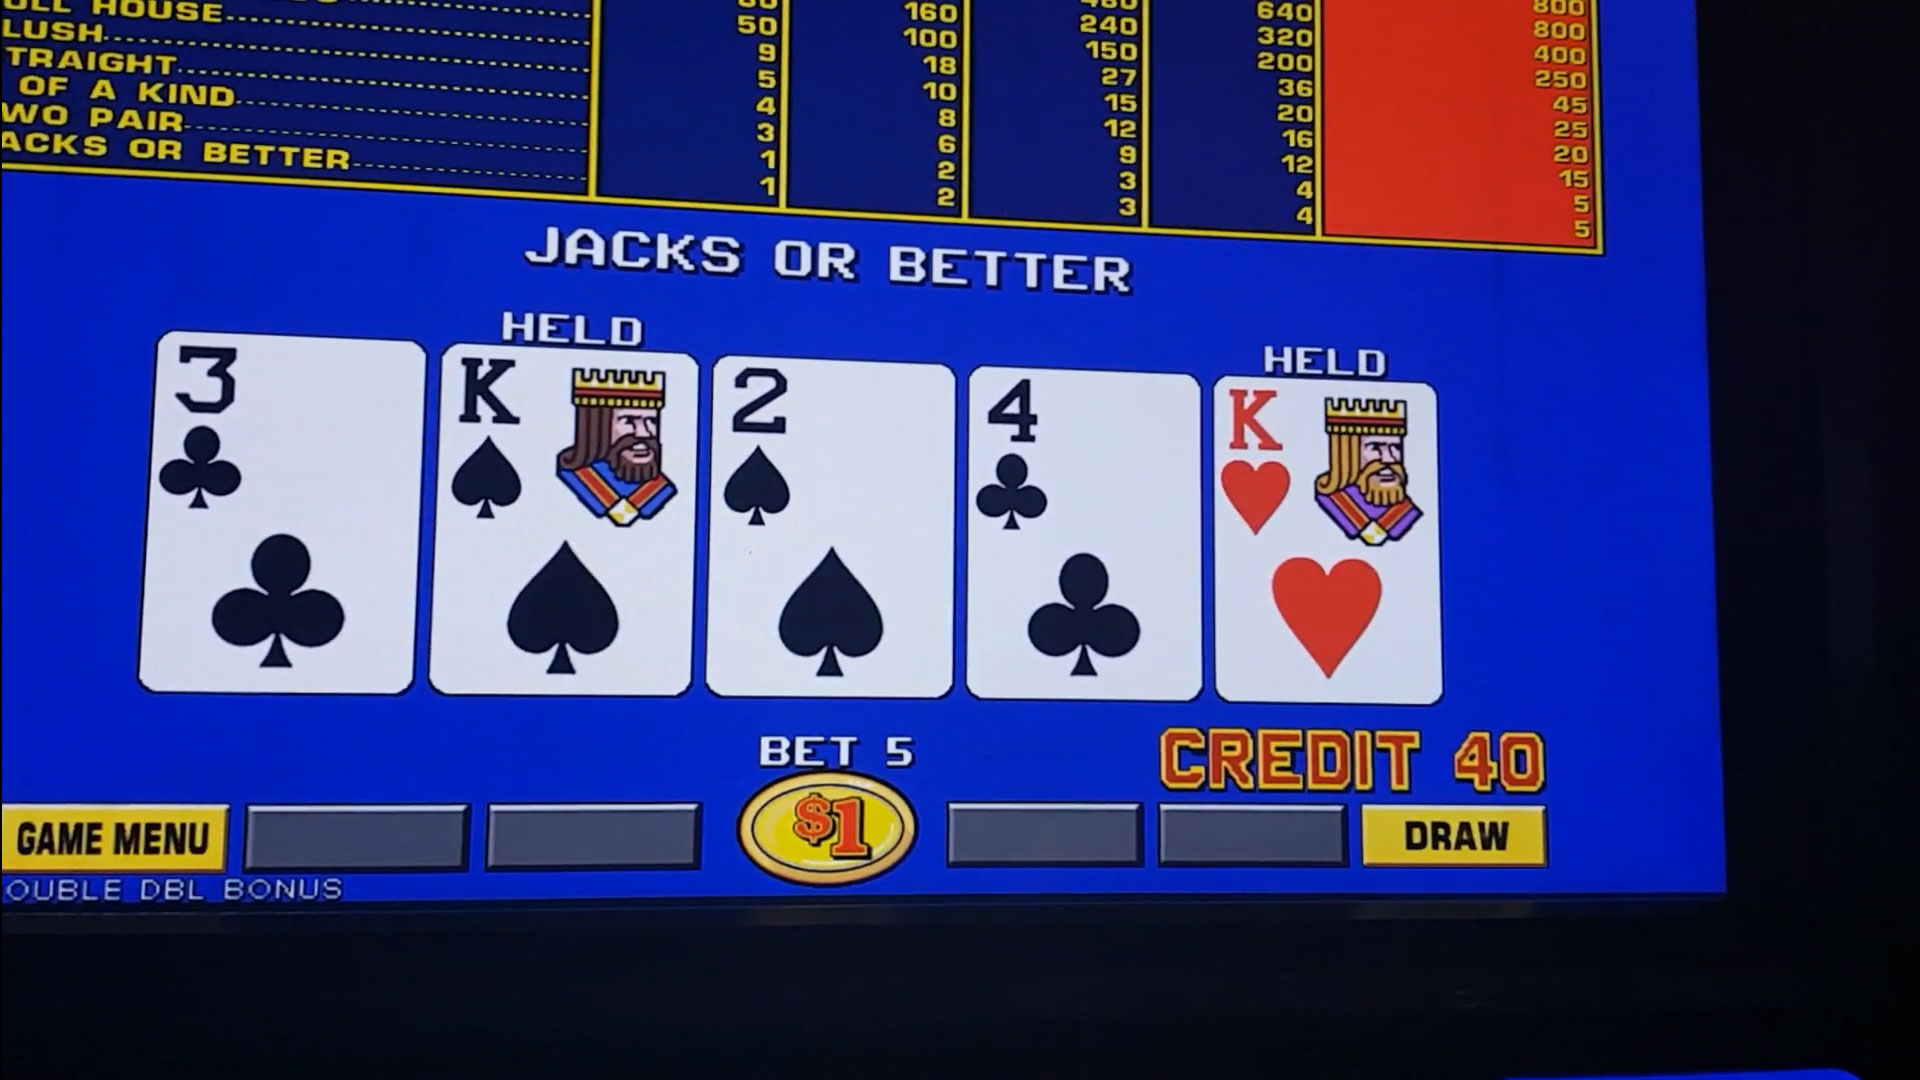C3: (169, 343, 411, 524)
C4: (975, 378, 1199, 531)
HK: (1217, 382, 1436, 539)
S2: (715, 365, 956, 535)
SK: (444, 355, 690, 533)
